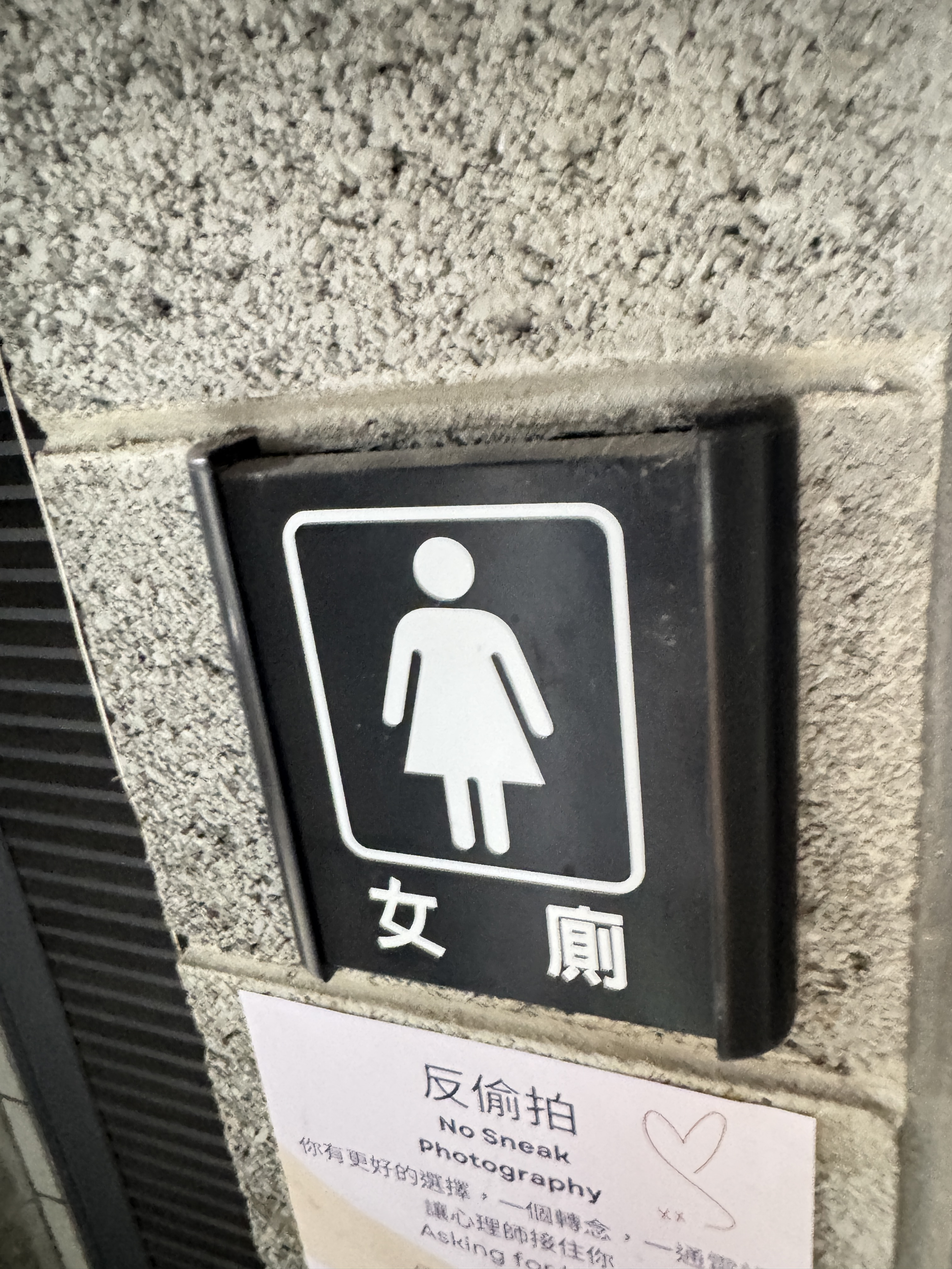toilet_sign: (175, 404, 851, 1036), (171, 398, 812, 1063)
